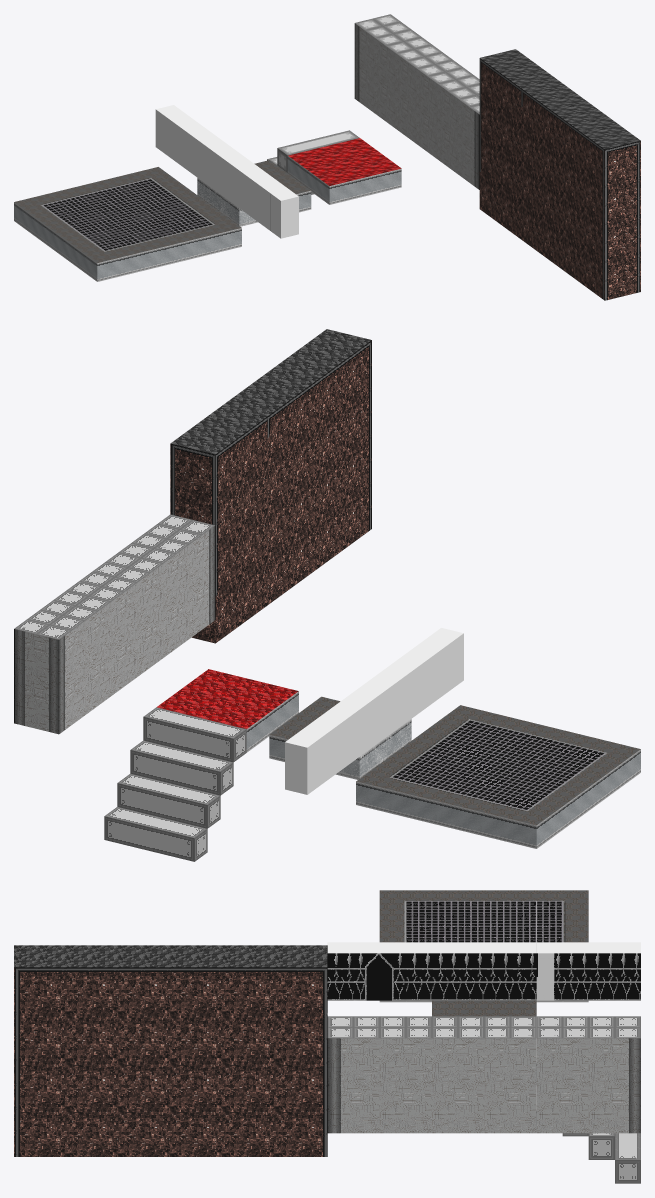
Rendered from RoomDoomModular.glb.
3 renders of one model, top to bottom at view 1: azimuth 30°, elevation 25°; view 2: azimuth 150°, elevation 25°; view 3: azimuth 270°, elevation 25°, orthographic. The views are drawn at different scales.
Visible parts, largest first — view 1: FloorGrid.001, Wall6.001, Wall5.001, Wall4.001, Floor2.001, Wall2.001, Wall1.001, Wall3.001, Gate2.001, Gate3.001, a, Floor1.001 (+2 smaller); view 2: FloorGrid.001, Wall5.001, Stairs.001, Wall4.001, Wall6.001, Wall2.001, Wall3.001, Wall1.001, Floor2.001, Gate3.001, Gate2.001, a (+1 smaller); view 3: Wall5.001, Wall4.001, Wall6.001, Wall1.001, Wall3.001, Wall2.001, FloorGrid.001, a, Gate2.001, Gate3.001, Stairs.001, Floor1.001.
Part boxes in pixels (x1,y1,x2,y2): FloorGrid.001: (14, 167, 241, 281); Wall6.001: (563, 110, 640, 300); Wall5.001: (479, 49, 556, 239); Wall4.001: (521, 79, 598, 269); Floor2.001: (287, 138, 401, 204); Wall2.001: (354, 14, 431, 128); Wall1.001: (396, 44, 473, 159); Wall3.001: (438, 75, 479, 189); Gate2.001: (239, 166, 298, 238); Gate3.001: (155, 105, 214, 176); a: (197, 135, 256, 207); Floor1.001: (197, 160, 311, 226); FloorGrid.001: (356, 705, 640, 848); Wall5.001: (170, 405, 267, 643); Stairs.001: (104, 707, 246, 861); Wall4.001: (223, 367, 319, 604); Wall6.001: (275, 329, 371, 566); Wall2.001: (14, 590, 111, 734); Wall3.001: (118, 514, 215, 657); Wall1.001: (66, 552, 163, 695); Floor2.001: (157, 669, 298, 752); Gate3.001: (285, 704, 359, 794); Gate2.001: (389, 628, 463, 718); a: (337, 666, 411, 756); Wall5.001: (223, 945, 327, 1156); Wall4.001: (118, 945, 222, 1156); Wall6.001: (14, 945, 118, 1156); Wall1.001: (432, 1016, 536, 1133); Wall3.001: (327, 1016, 431, 1133); Wall2.001: (536, 1016, 640, 1133); FloorGrid.001: (379, 890, 588, 1002); a: (432, 942, 536, 1000); Gate2.001: (327, 942, 431, 1000); Gate3.001: (536, 942, 640, 1000); Stairs.001: (562, 1133, 640, 1183); Floor1.001: (432, 1000, 536, 1016).
Bounding box in the file's own units: 22 × 11 × 24.
2 materials, 2 textured.
